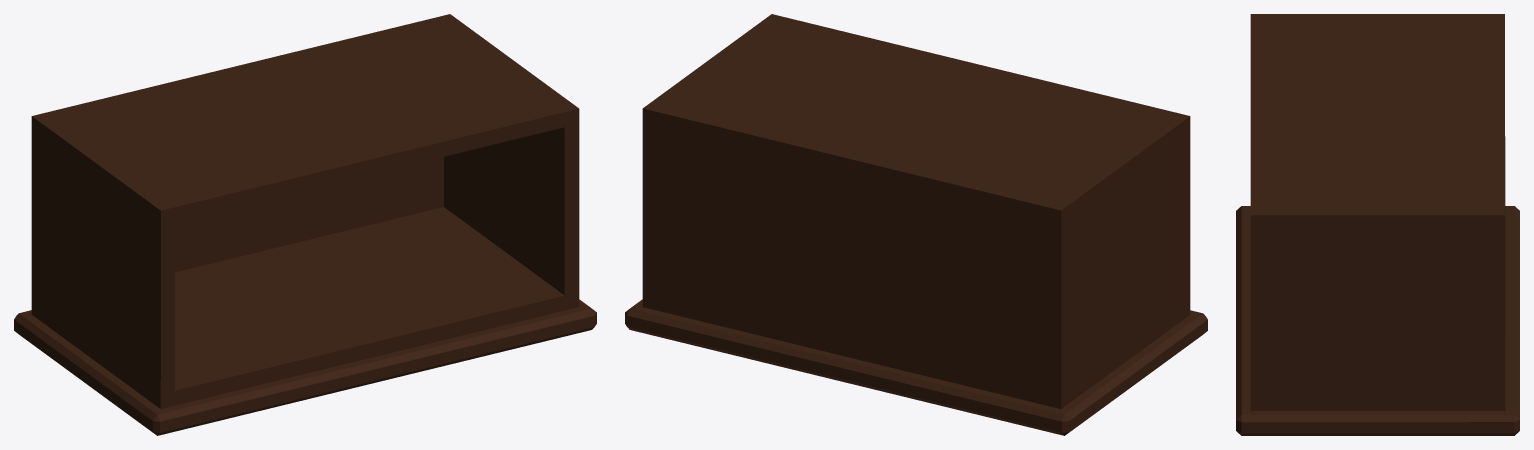
File: DrawermeshDresserDrawer_205_1_1.obj
3 views of the same model, side by side, from view 1: azimuth 30°, elevation 25°; view 2: azimuth 150°, elevation 25°; view 3: azimuth 270°, elevation 25° (orthographic).
Parts seen in each view (by area): view 1: DresserDrawer_205_1; view 2: DresserDrawer_205_1; view 3: DresserDrawer_205_1.
Boxes of the visible parts, bbox=[...] form: DresserDrawer_205_1: bbox=[14, 14, 596, 435]; DresserDrawer_205_1: bbox=[625, 14, 1207, 435]; DresserDrawer_205_1: bbox=[1236, 14, 1519, 435].
Size of the model in its own units: 0.5449 by 0.2579 by 0.3059.
